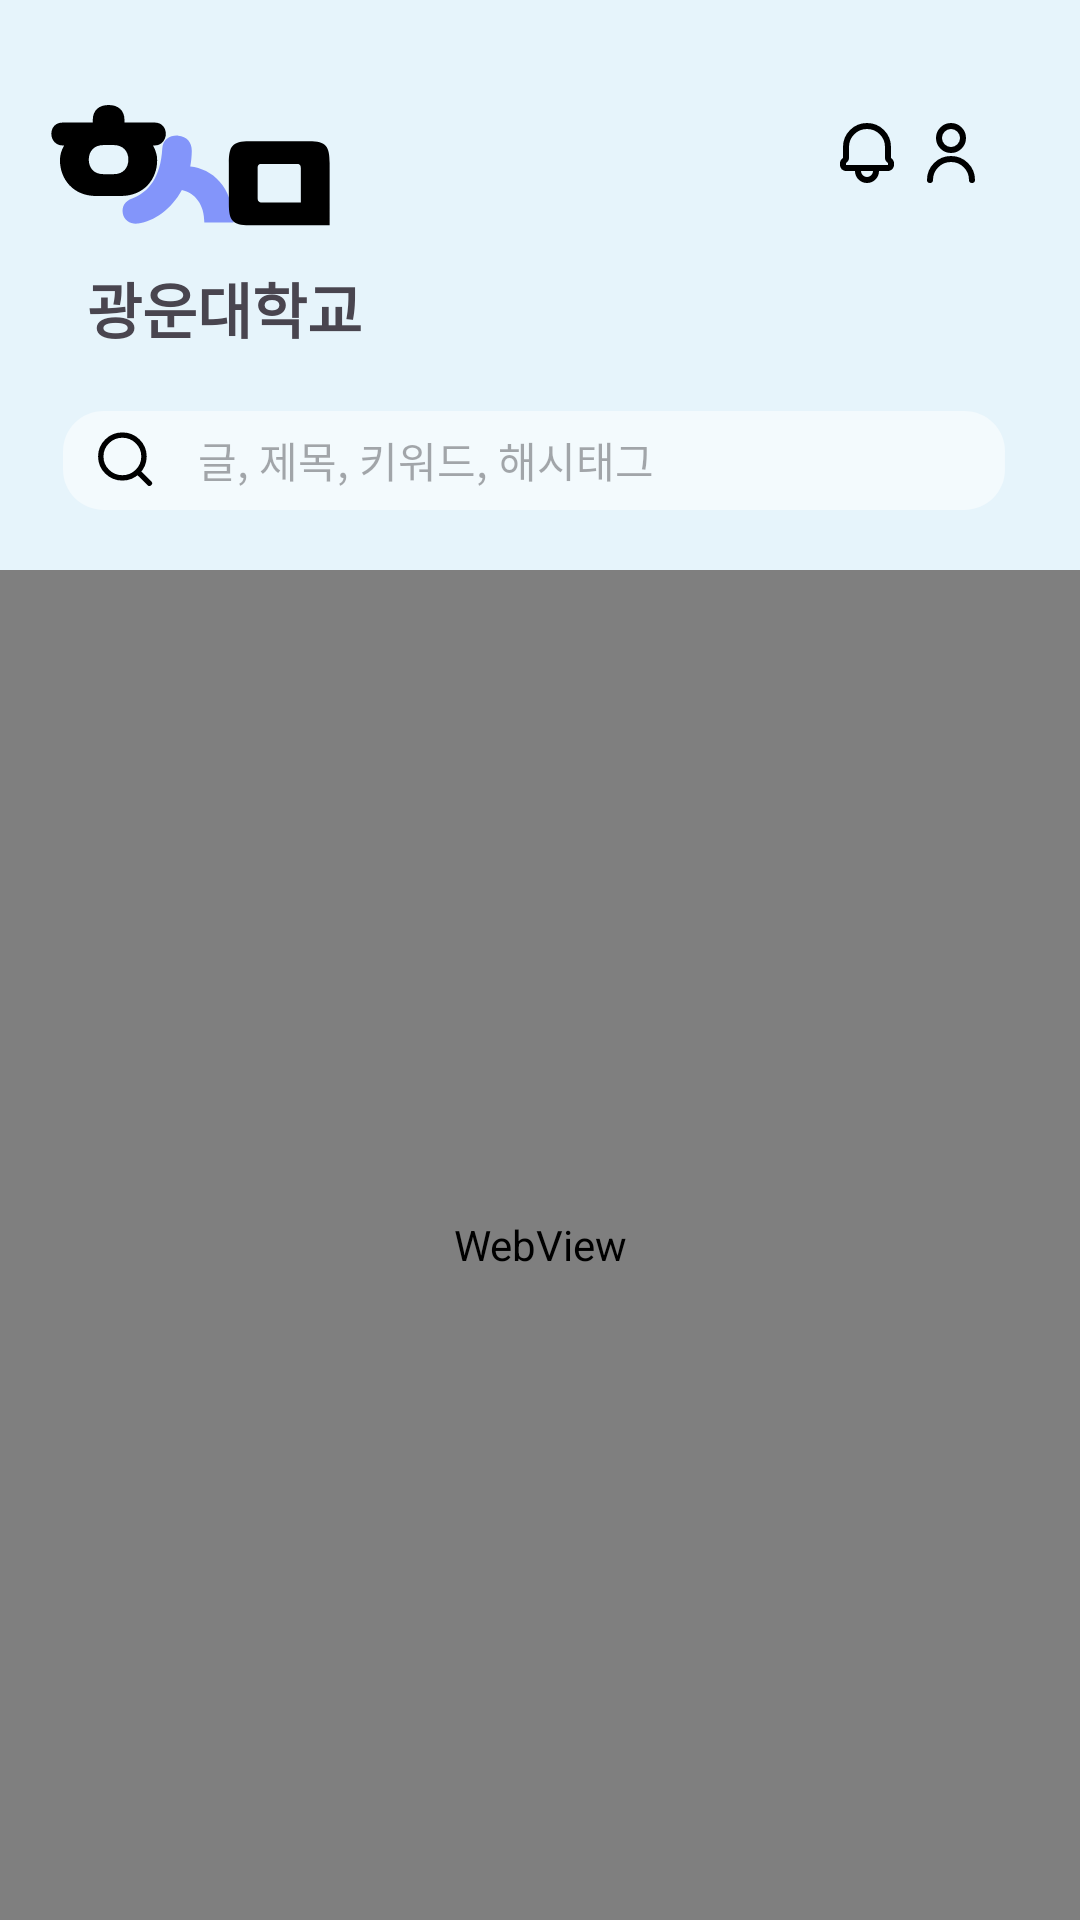

Named icons in this screenshot (1080 x 1920) and their bounding boxes, rect(x1, y1, x2, y2):
alarm bell: rect(840, 123, 894, 183)
mypage: rect(927, 123, 975, 183)
